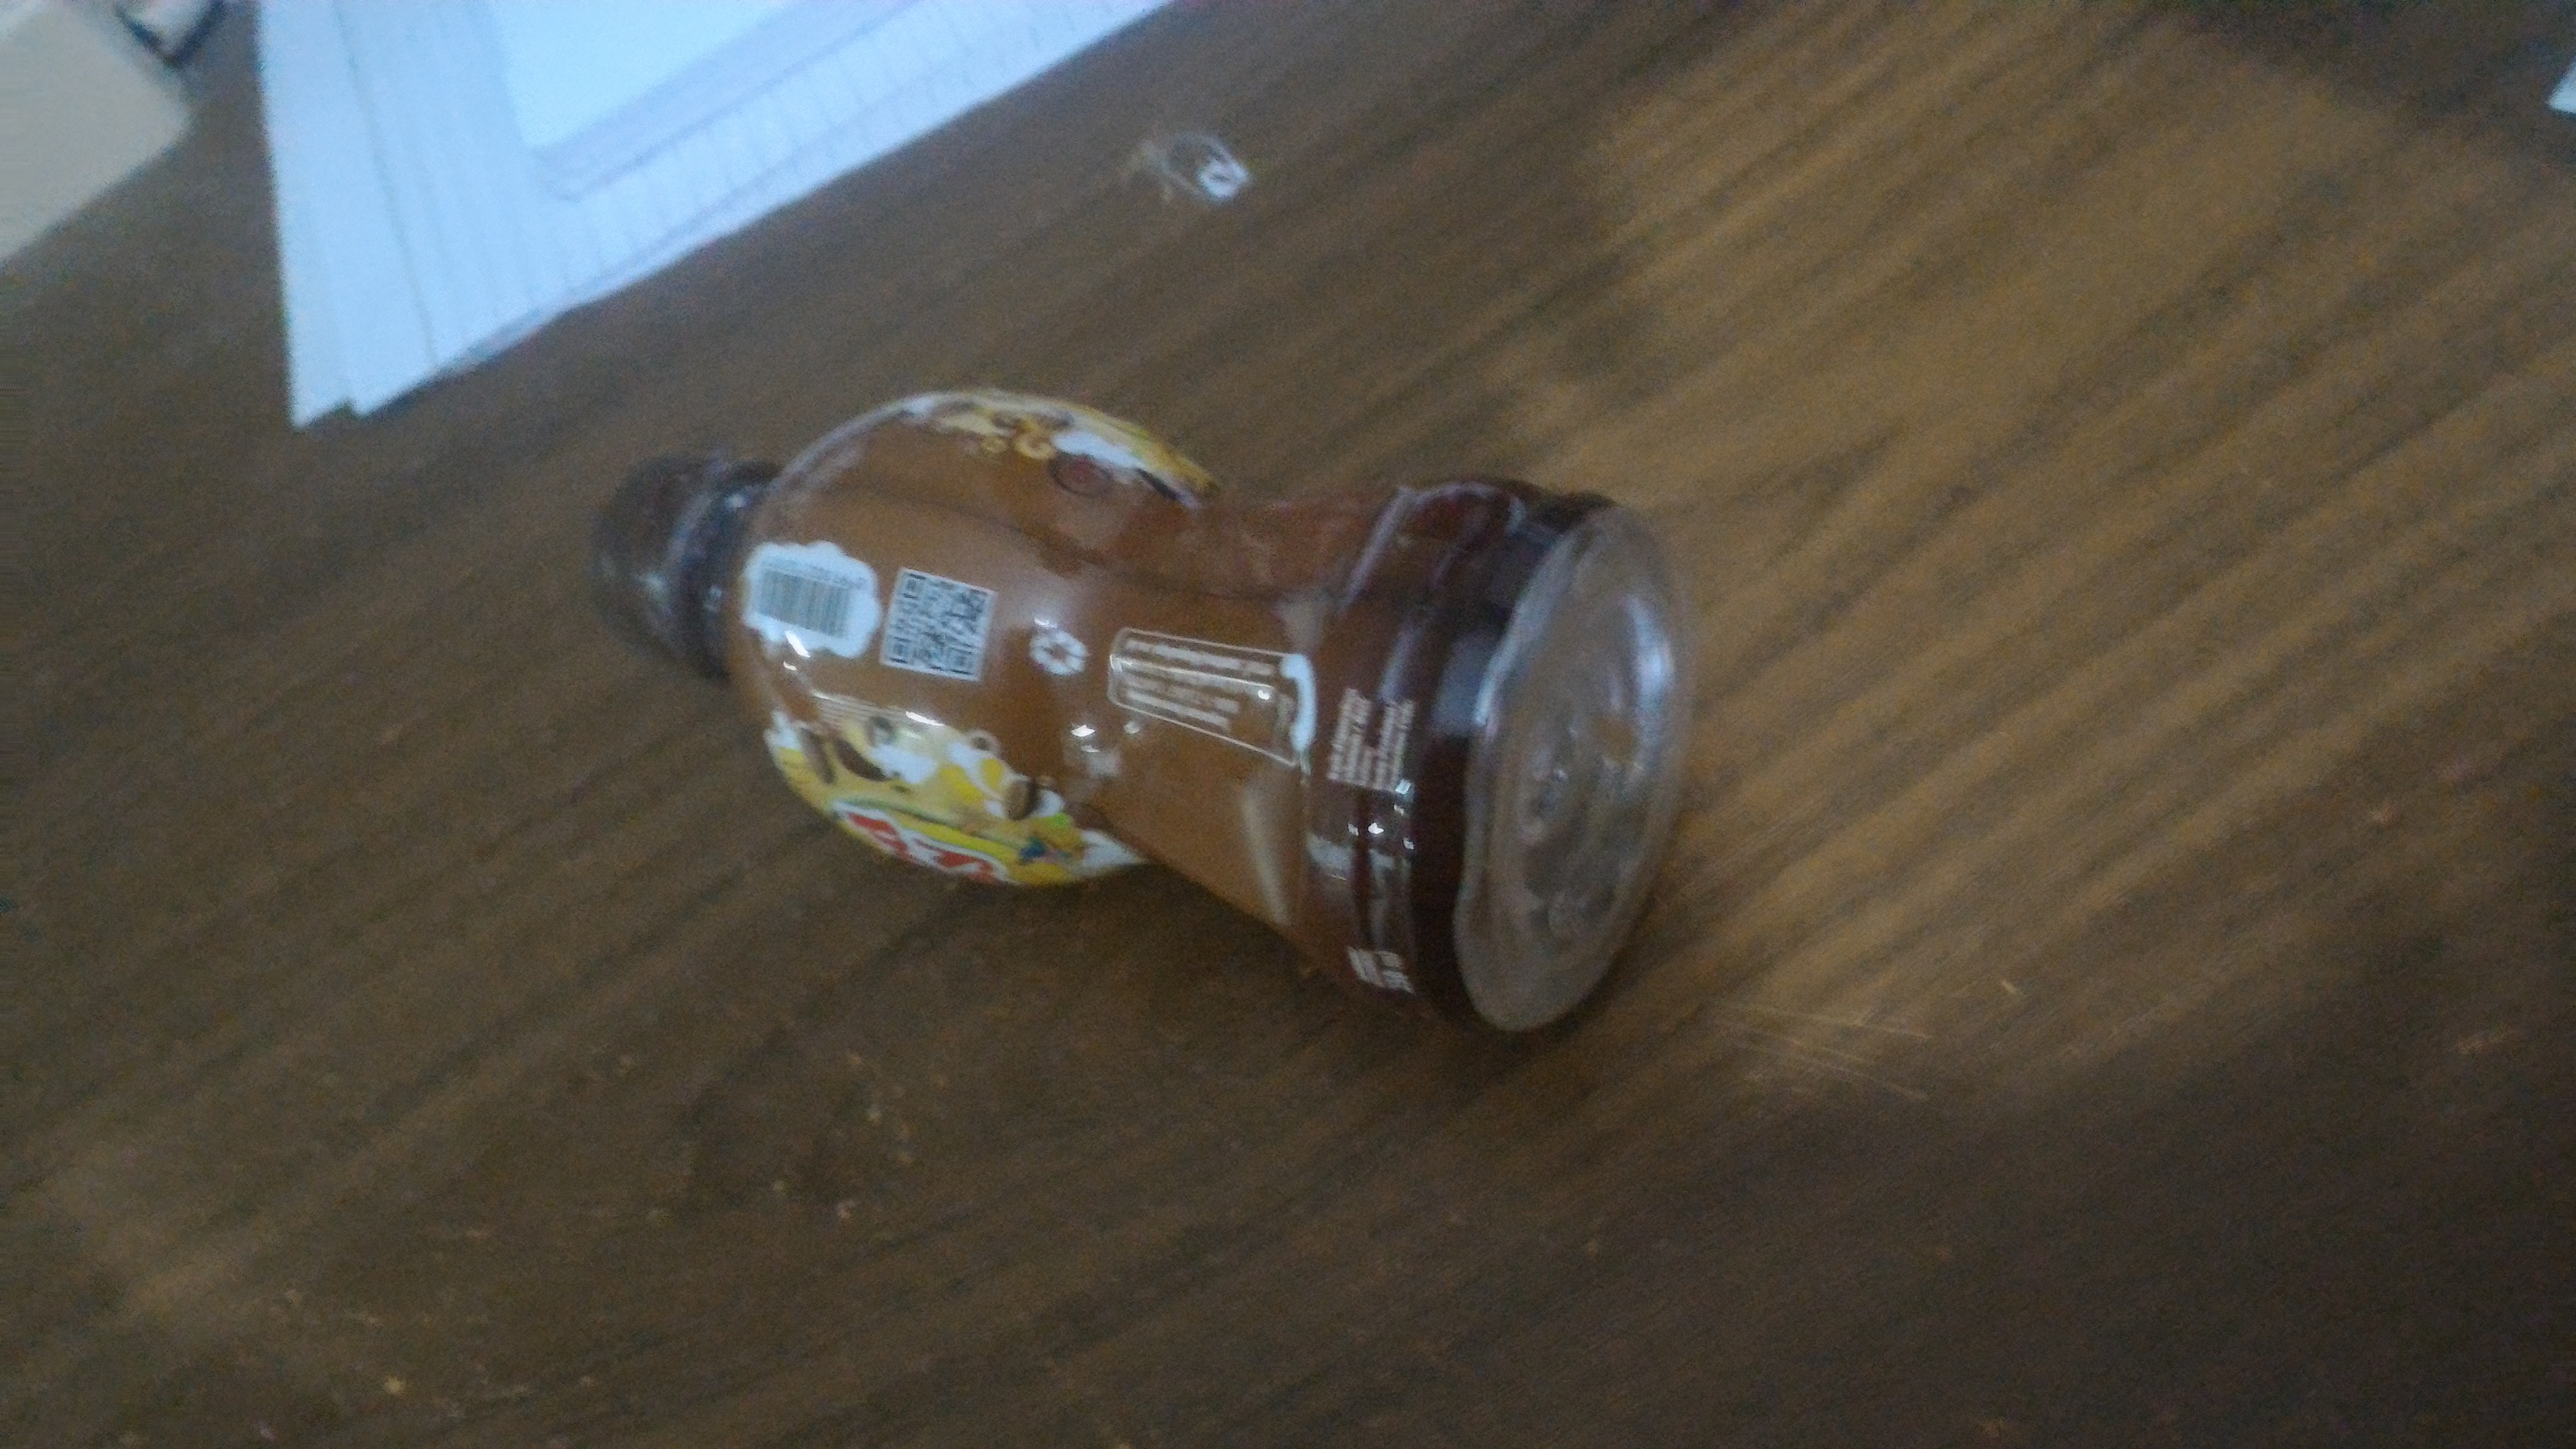botol: (594, 380, 1691, 1051), (594, 396, 1691, 1051)
